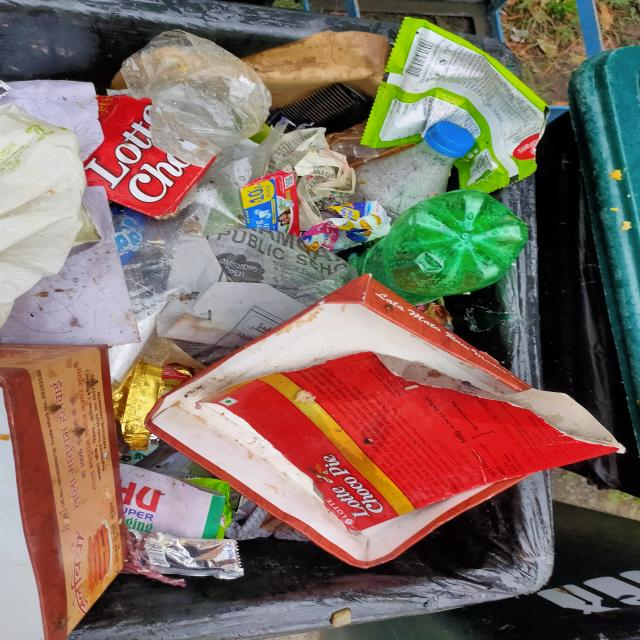B3: (146, 277, 627, 531), (363, 16, 554, 162), (1, 343, 128, 560), (122, 31, 274, 152), (392, 192, 529, 298), (96, 96, 207, 214), (2, 93, 69, 285), (359, 126, 478, 201), (215, 228, 332, 295), (126, 468, 226, 538), (287, 124, 353, 190), (145, 540, 245, 578), (240, 170, 301, 232), (294, 82, 360, 122)
